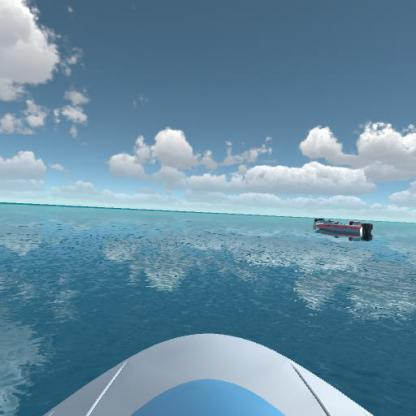usv1: (311, 215, 343, 229)
usv3: (320, 220, 375, 245)
